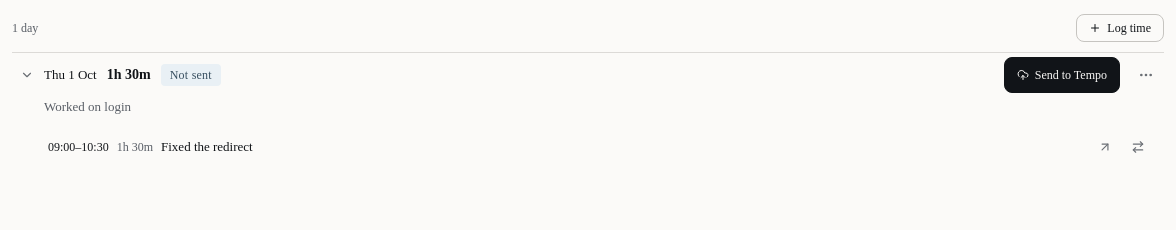
Scenario: the day menu › focuses the first item, moves with the arrow keys, and Esc closes only the menu and refocuses the button
Click the button named "More for Thu 1 Oct": (1146, 75) [1128, 57, 1164, 93]
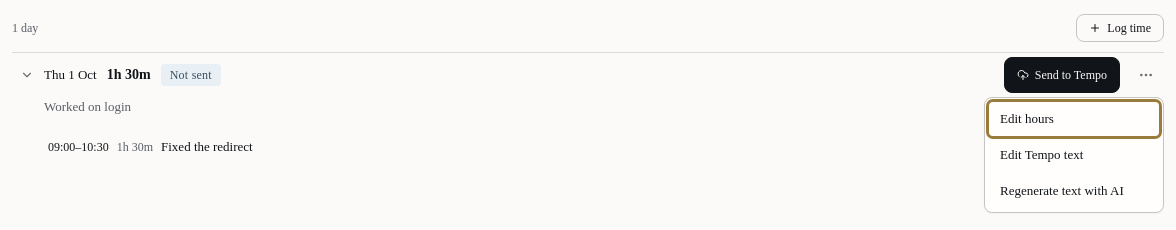
Press ArrowUp in the menu item "Edit hours", box [989, 102, 1159, 136]
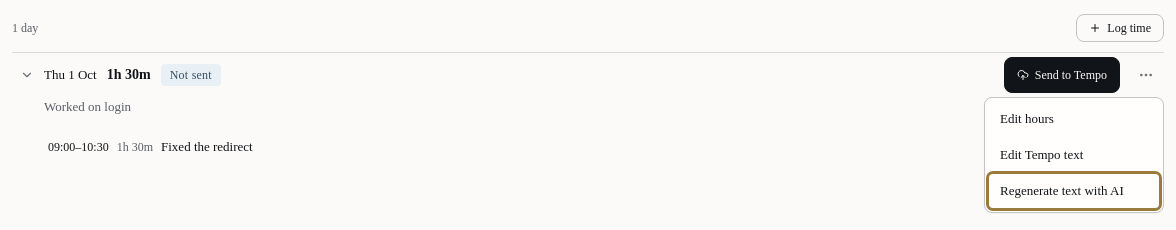
// fireEvent returns false when a handler called preventDefault, which is what keeps the dialog open.
Press Escape in the menu item "Regenerate text with AI", box [989, 174, 1159, 208]
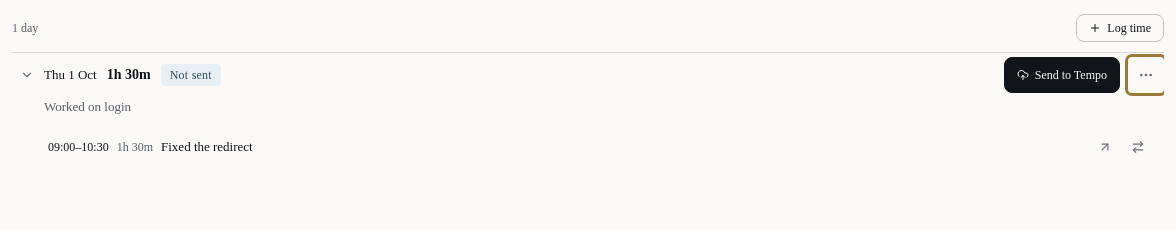
Expected: the menu is gone
